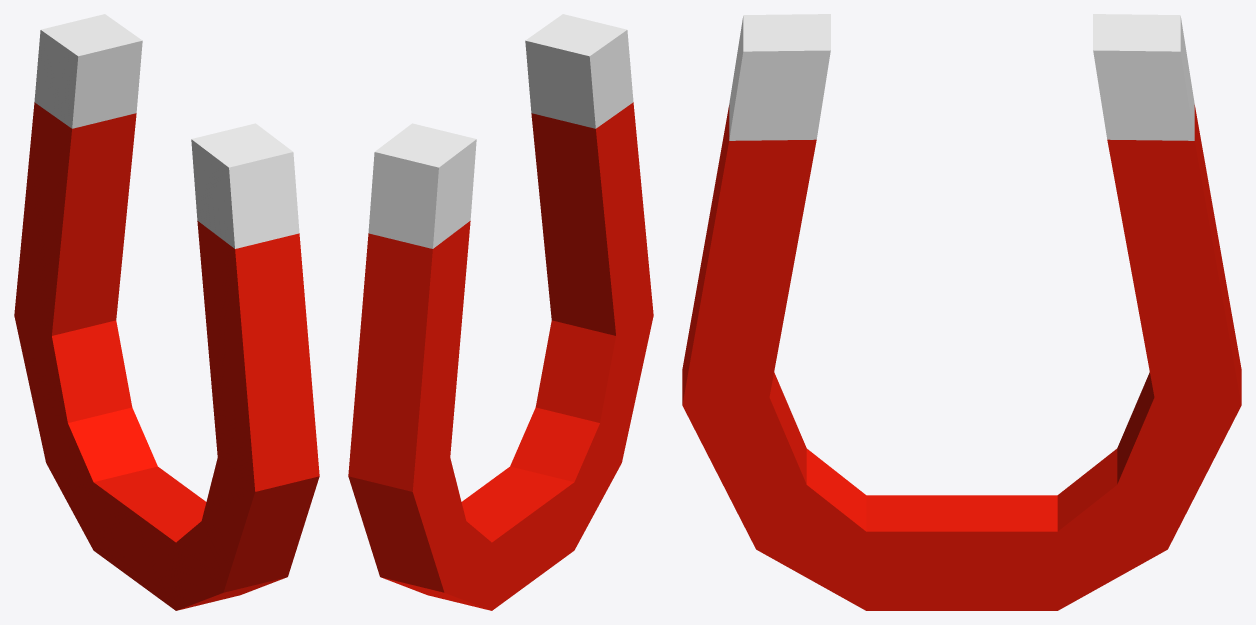
File: magnet.fbx
3 renders of one model, left to right at view 1: azimuth 30°, elevation 25°; view 2: azimuth 150°, elevation 25°; view 3: azimuth 270°, elevation 25°, orthographic. The views are drawn at different scales.
Visible parts, largest first — view 1: Cube; view 2: Cube; view 3: Cube.
Part boxes in pixels (box(x1,y1,x2,y2)): Cube: box(14, 14, 319, 610); Cube: box(348, 14, 653, 610); Cube: box(682, 14, 1241, 610).
Bounding box in the file's own units: 24.51 × 176 × 159.
